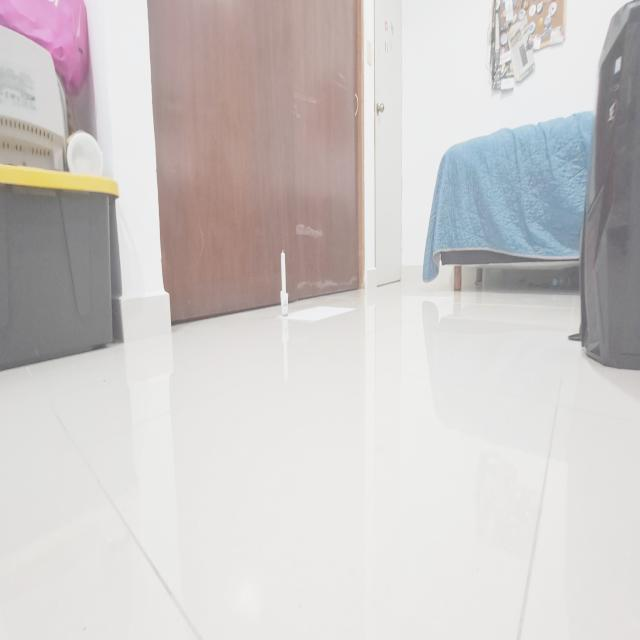candle: (276, 241, 292, 321)
